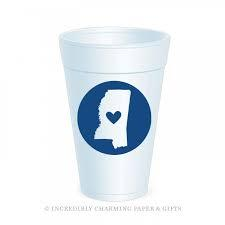Plastic cup: (52, 21, 180, 202)
